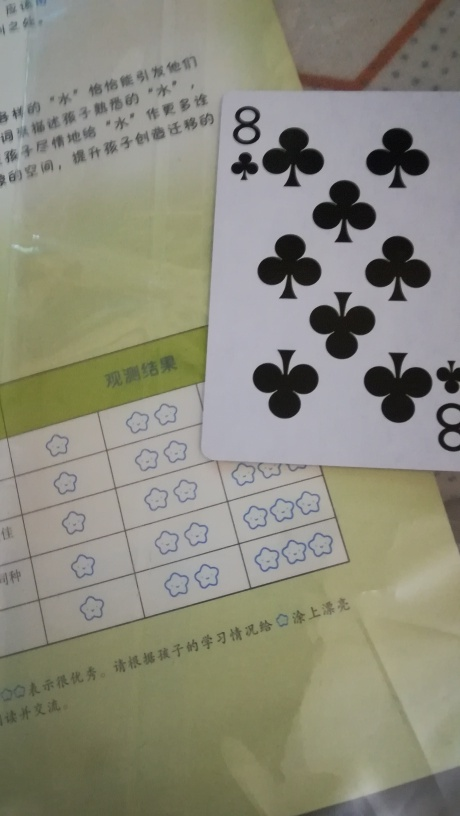mh 8: (203, 85, 460, 467)
